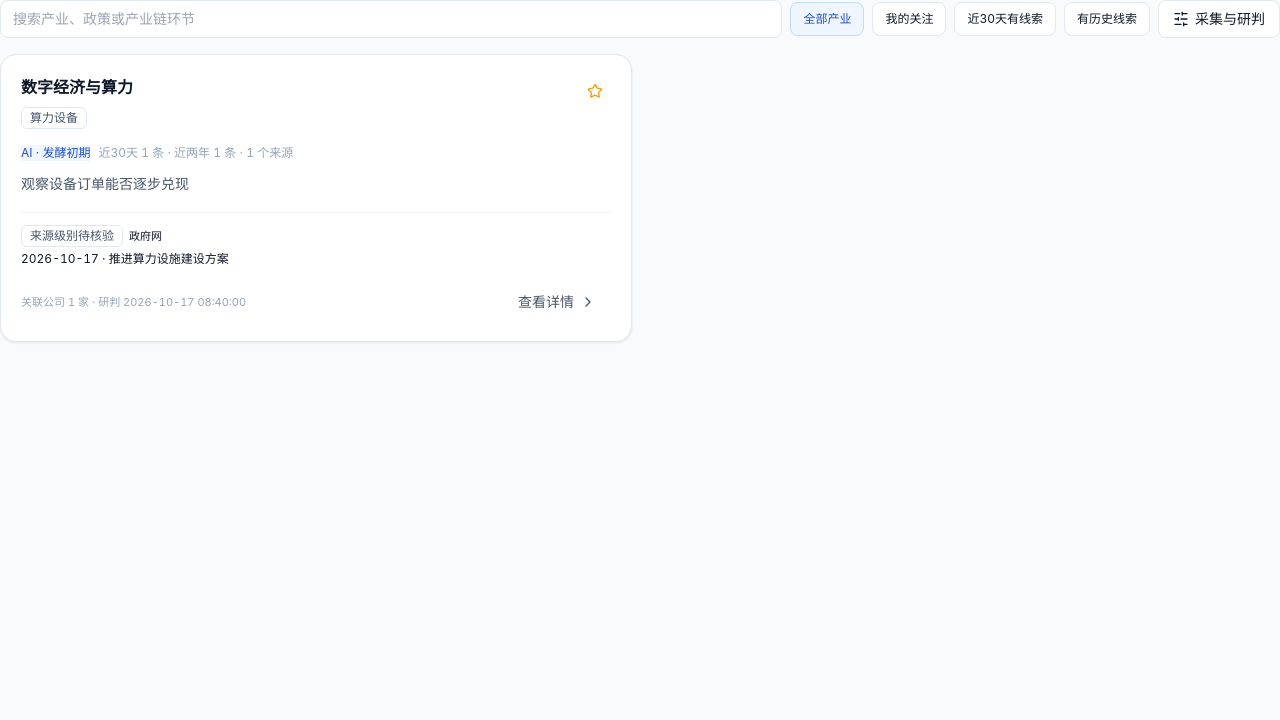
daily policy research board › replaces the visible analysis on a successful manual review
Click the heading "数字经济与算力": {"x": 77, "y": 87} [21,75,133,99]
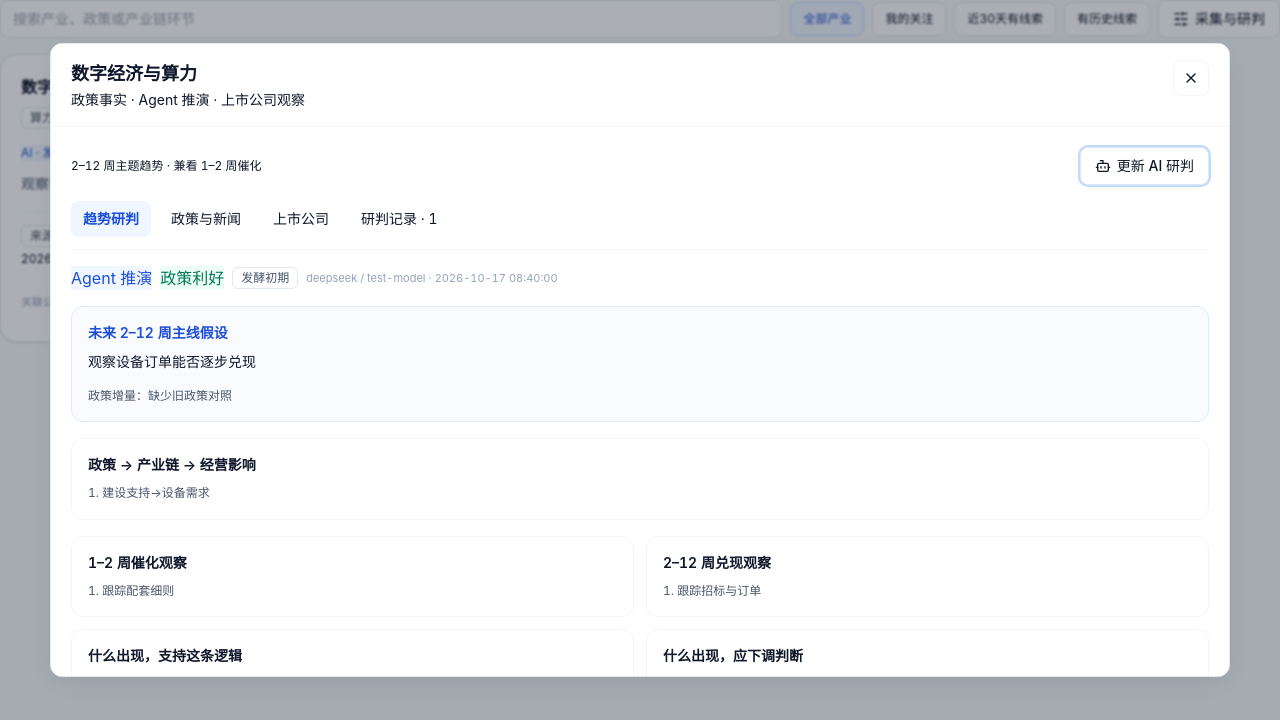
Check: the button "更新 AI 研判" is shown
Check: the button "更新 AI 研判" is enabled
Click the button "更新 AI 研判": {"x": 1144, "y": 166} [1080,147,1209,185]
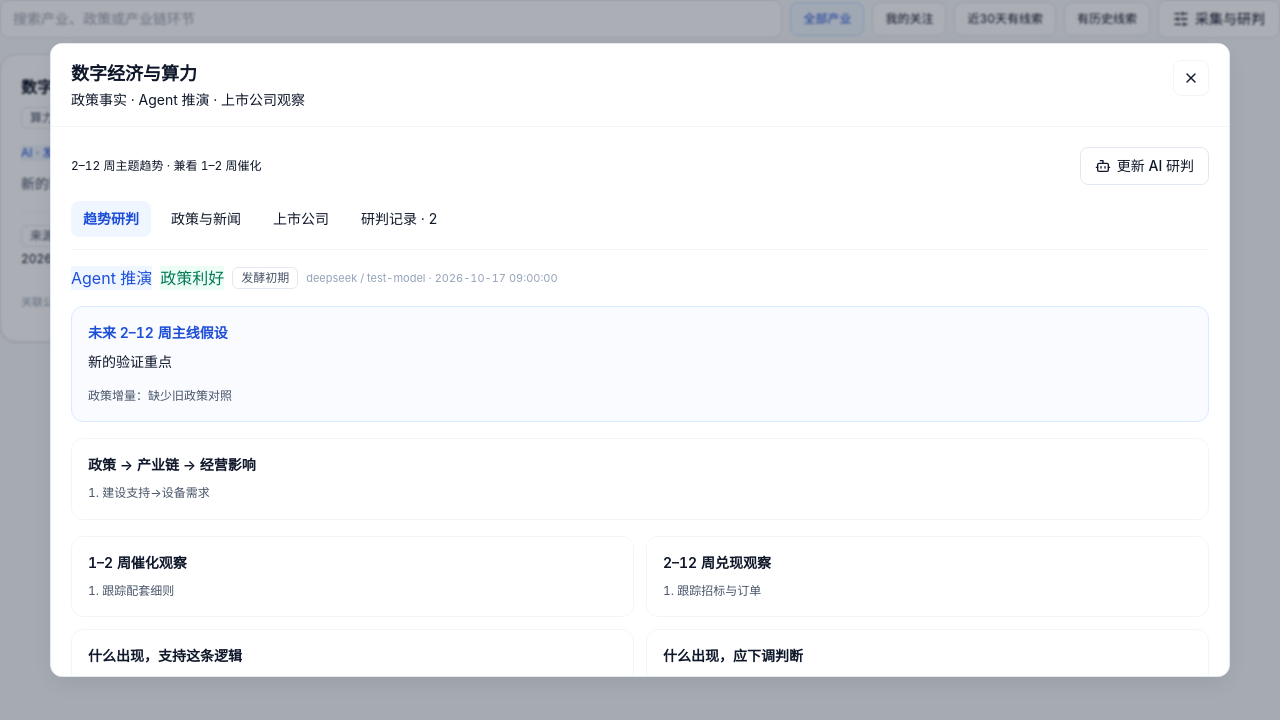
Check: the text "新的验证重点" is shown, box [21,175,105,192]
Check: the dialog shows "研判记录 · 2"
